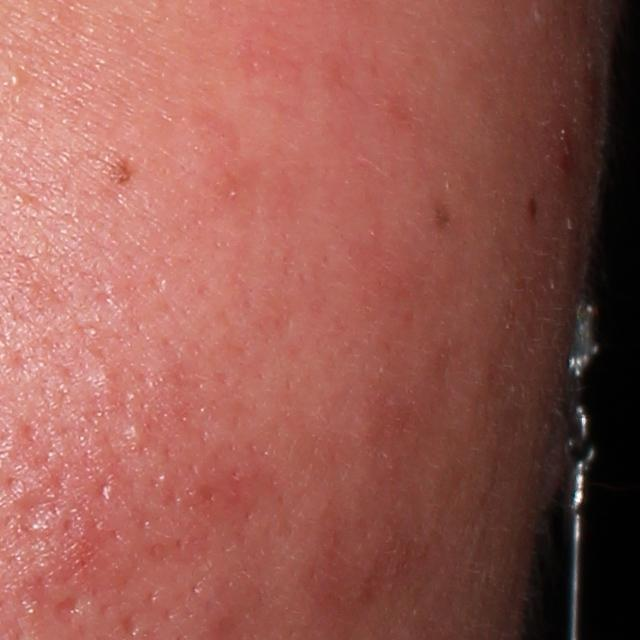atrophic_scar: (8, 473, 58, 534), (46, 596, 80, 629)
comedo: (3, 67, 30, 90)
nevus: (110, 162, 141, 185), (520, 192, 538, 227), (434, 202, 454, 232)
